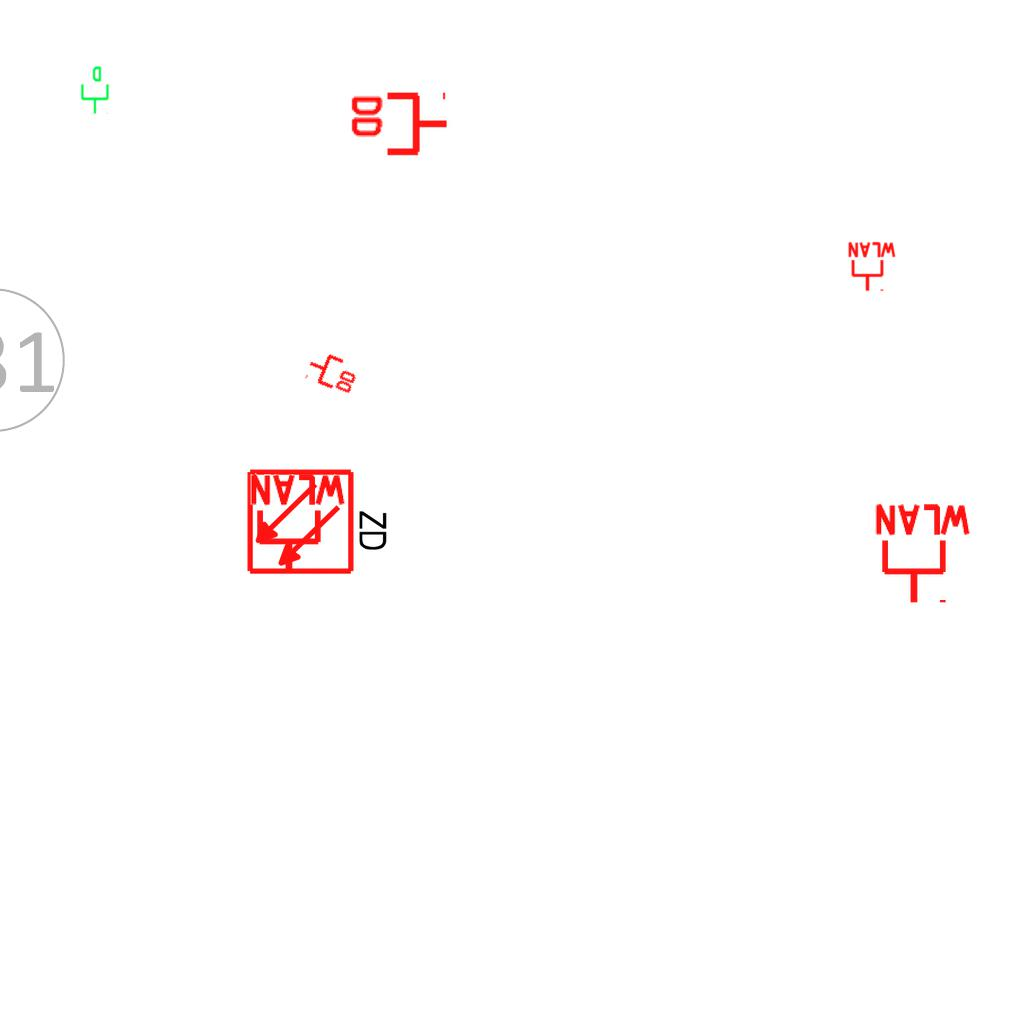Datenanschluss_einfach: (77, 65, 111, 115)
Datenanschluss_zweifach: (347, 91, 450, 160), (302, 346, 364, 397)
WLAN: (871, 502, 975, 607), (246, 472, 350, 577), (846, 241, 898, 293)
ZD_Melder_in_Zwischendecke_mit_Revisionsoeffnung_mind_40_x_40_cm: (245, 463, 394, 577)
